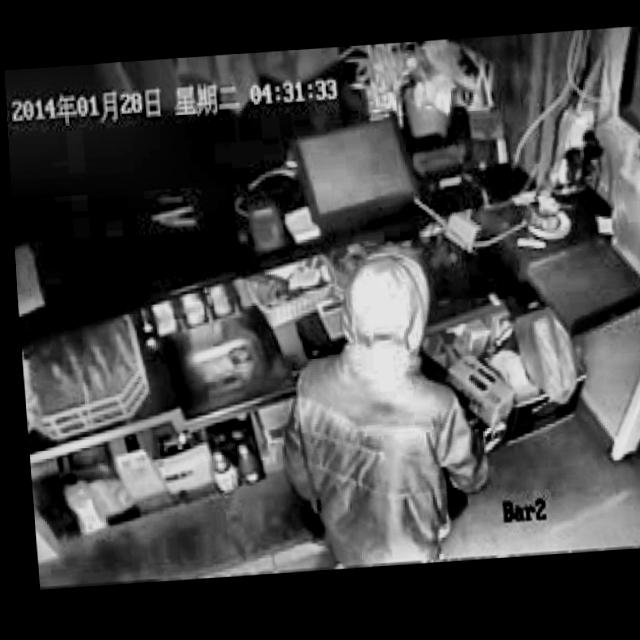burglary: (258, 232, 506, 574)
